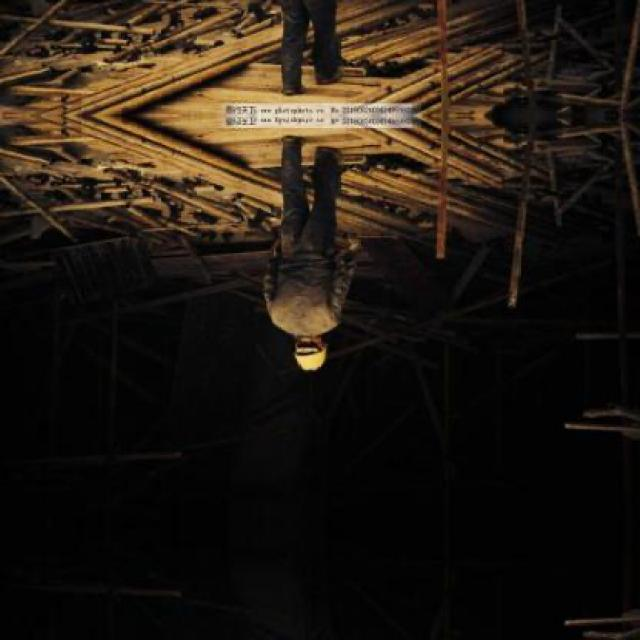con casco: (268, 340, 343, 395)
